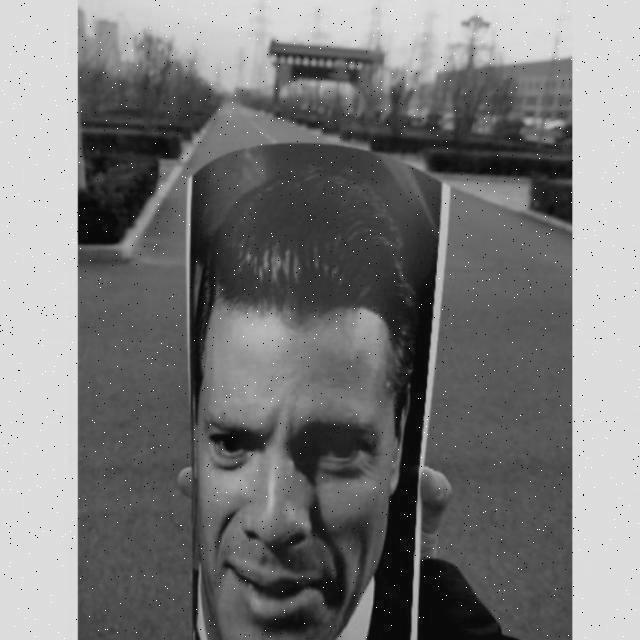fake: (160, 136, 460, 640)
